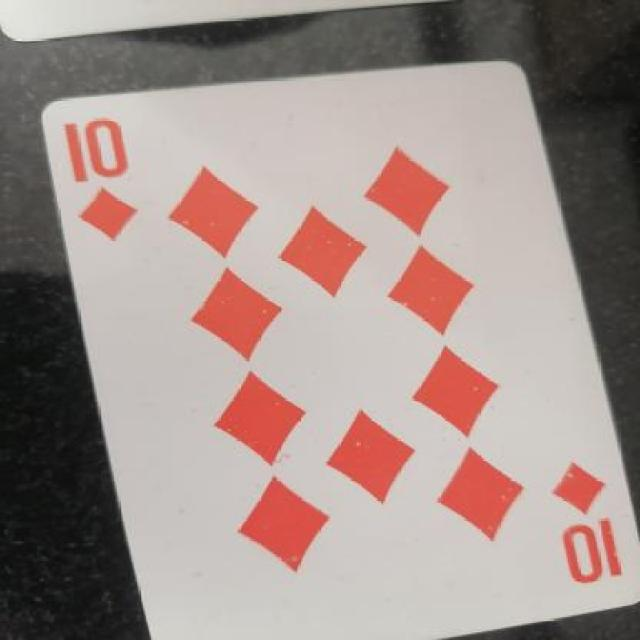10D: (53, 104, 158, 256), (518, 458, 640, 588)
